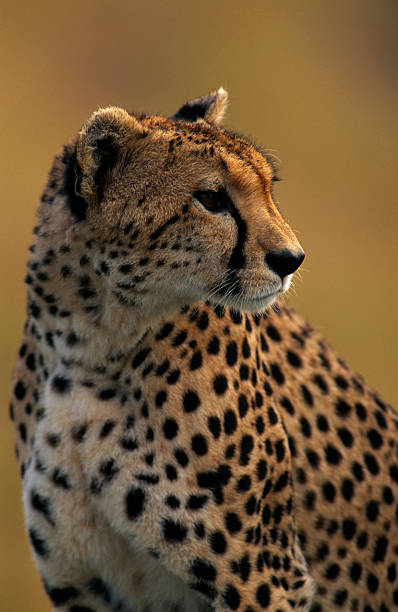cheetah: (42, 59, 333, 336)
